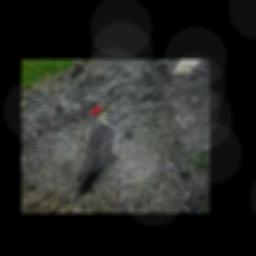Woodpecker: (74, 99, 125, 196)
